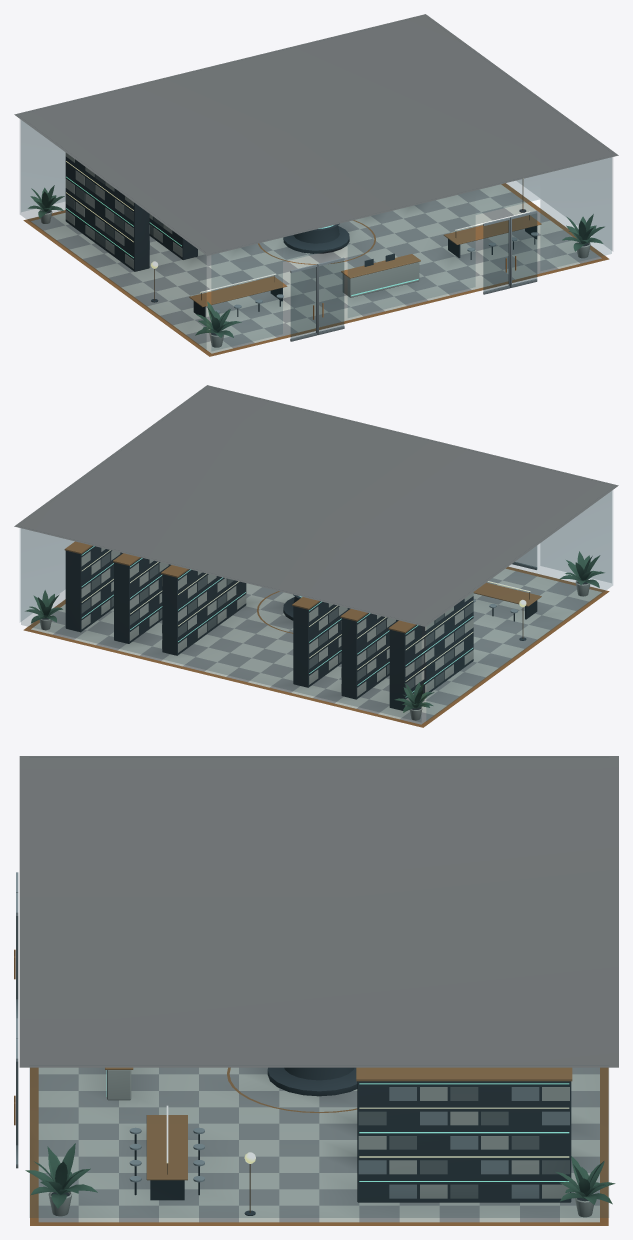
The model's file is lobby-memory.lod0.glb.
The picture shows the model from 3 angles, top to bottom: view 1: azimuth 30°, elevation 25°; view 2: azimuth 150°, elevation 25°; view 3: azimuth 270°, elevation 25°; orthographic projection. The views are drawn at different scales.
Visible parts, largest first — view 1: structure, door_1_l, door_0_l, door_0_r, door_1_r, foliage; view 2: structure, foliage; view 3: structure, foliage.
Part boxes in pixels (bbox=[...]): structure: bbox=[14, 14, 618, 356]; door_1_l: bbox=[483, 217, 510, 294]; door_0_l: bbox=[290, 264, 317, 341]; door_0_r: bbox=[317, 257, 344, 334]; door_1_r: bbox=[510, 210, 537, 287]; foliage: bbox=[28, 185, 604, 337]; structure: bbox=[14, 385, 618, 727]; foliage: bbox=[25, 551, 604, 712]; structure: bbox=[19, 756, 618, 1225]; foliage: bbox=[25, 1143, 615, 1208].
Bounding box in the file's own units: 21.36 × 5.22 × 17.52.
